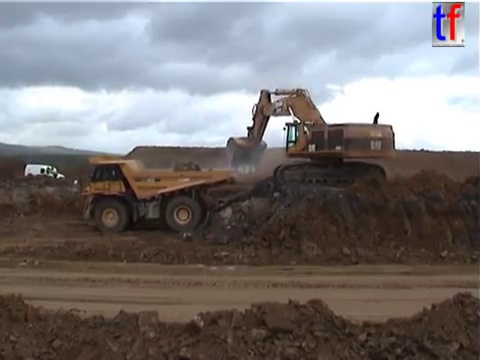excavator: (223, 84, 399, 194)
truck: (71, 152, 233, 234)
worker: (49, 164, 59, 182), (44, 163, 50, 179)
